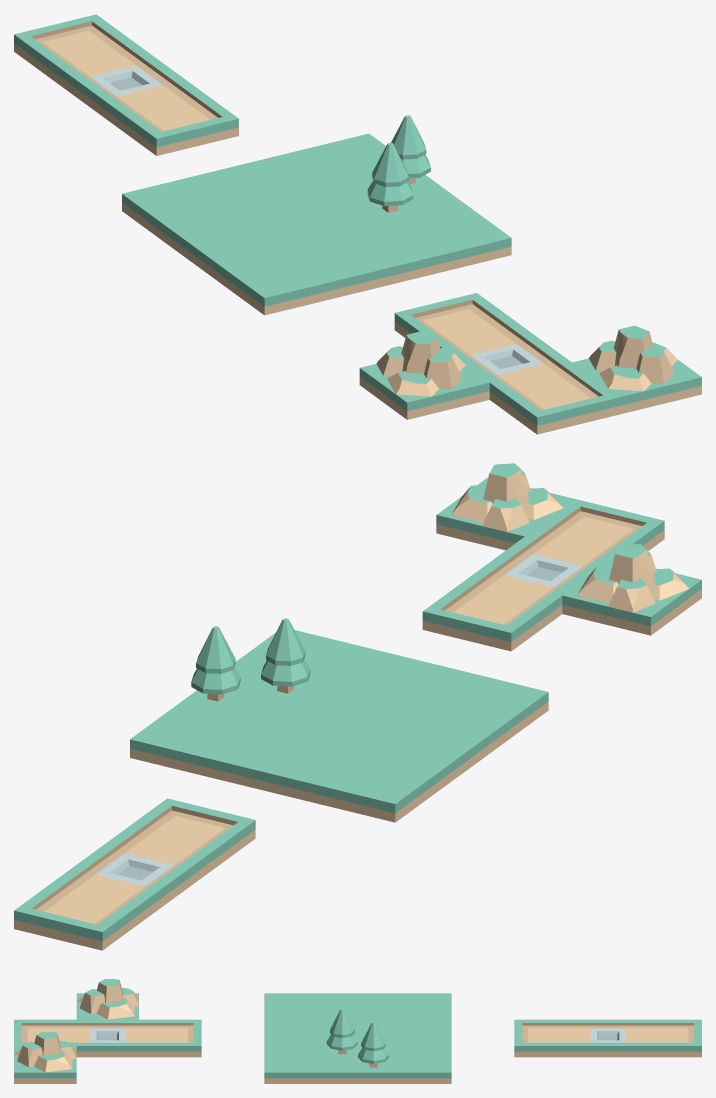
File: level01_geo.glb
3 renders of one model, top to bottom at view 1: azimuth 30°, elevation 25°; view 2: azimuth 150°, elevation 25°; view 3: azimuth 270°, elevation 25°, orthographic. The views are drawn at different scales.
Parts seen in each view (by area): view 1: LevelComplete; view 2: LevelComplete; view 3: LevelComplete.
Boxes of the visible parts, x1,y1,x2,y2 form: LevelComplete: (14,14,701,434); LevelComplete: (14,463,701,950); LevelComplete: (14,979,701,1083).
Bounding box in the file's own units: 7.64 × 2.44 × 28.
